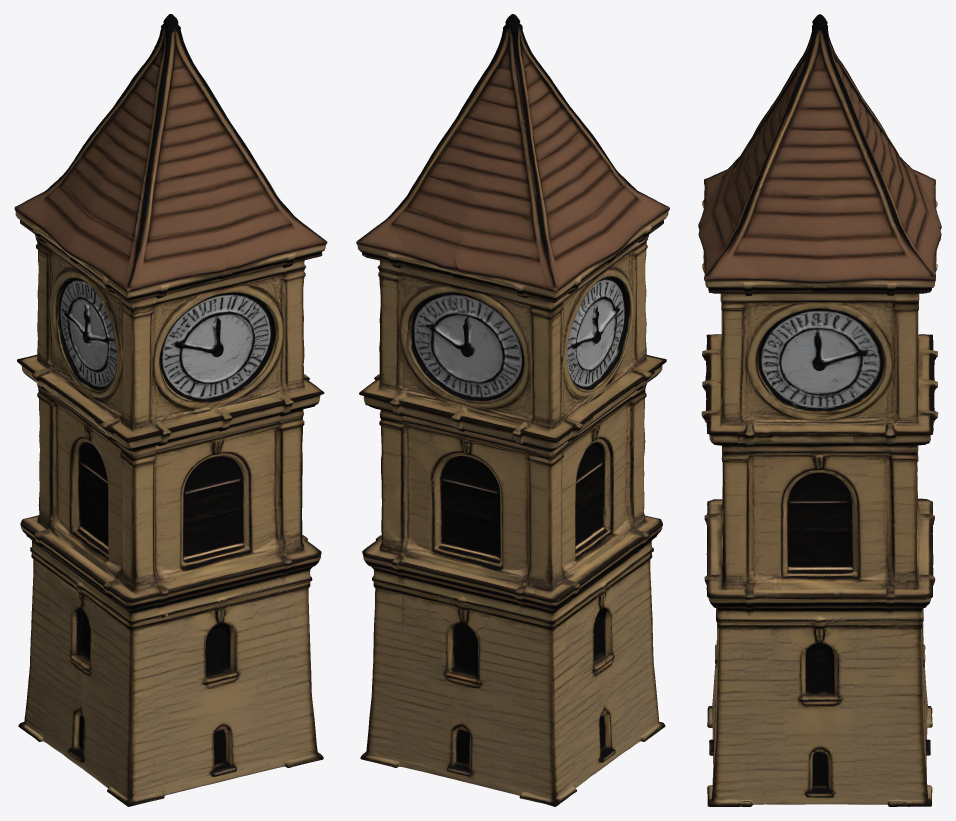
Rendered from clocktower3d.glb.
The picture shows the model from 3 angles, left to right: view 1: azimuth 30°, elevation 25°; view 2: azimuth 150°, elevation 25°; view 3: azimuth 270°, elevation 25°; orthographic projection. The views are drawn at different scales.
Visible parts, largest first — view 1: tripo_node_4dd6bc2d-3d92-454f-b01c-065f1c8bb256; view 2: tripo_node_4dd6bc2d-3d92-454f-b01c-065f1c8bb256; view 3: tripo_node_4dd6bc2d-3d92-454f-b01c-065f1c8bb256.
Part boxes in pixels (<box>): tripo_node_4dd6bc2d-3d92-454f-b01c-065f1c8bb256: <box>14,14,327,806</box>; tripo_node_4dd6bc2d-3d92-454f-b01c-065f1c8bb256: <box>356,14,669,806</box>; tripo_node_4dd6bc2d-3d92-454f-b01c-065f1c8bb256: <box>698,14,941,806</box>.
Size of the model in its own units: 0.3004 by 1 by 0.2966.
Materials: 1 (1 with a texture image).
